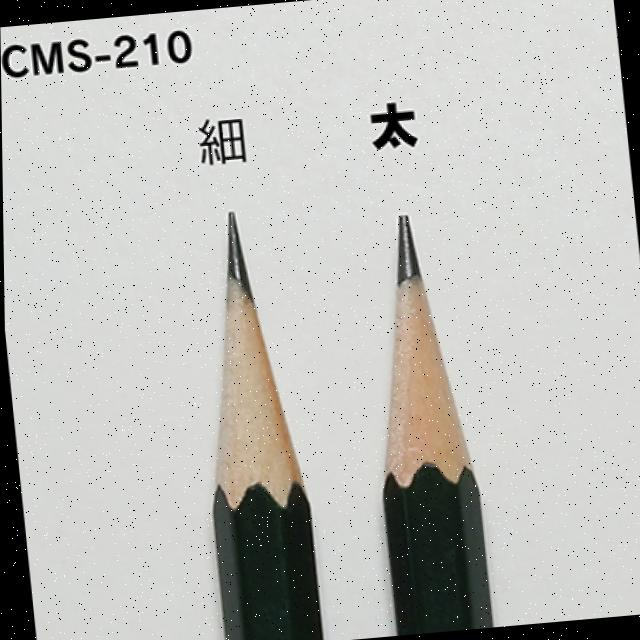pencil: (174, 195, 324, 640), (348, 207, 494, 636)
